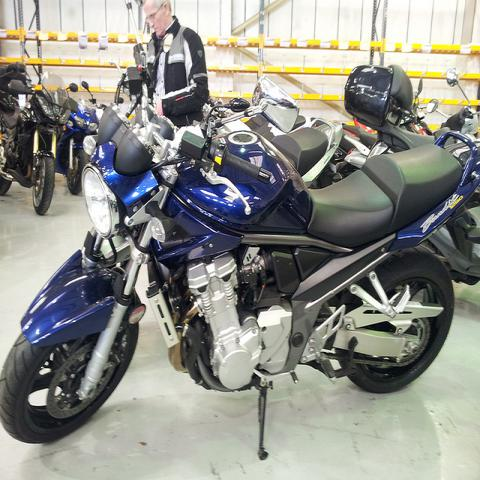motorcycle: (0, 107, 479, 450), (59, 108, 343, 198), (0, 68, 82, 218), (74, 81, 107, 164), (433, 105, 479, 142)
